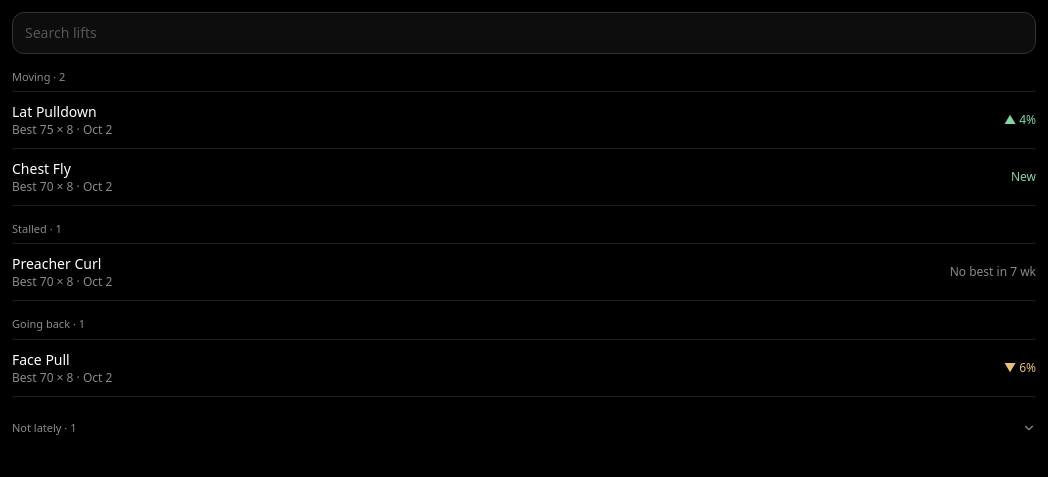
Test case: Stats, a lift's detail › reads a bodyweight-only lift in reps
Click the button "Lat Pulldown Best 75 × 8 · Oct 2 ▲ 4%": (54, 112) x1=12 y1=92 x2=1036 y2=149
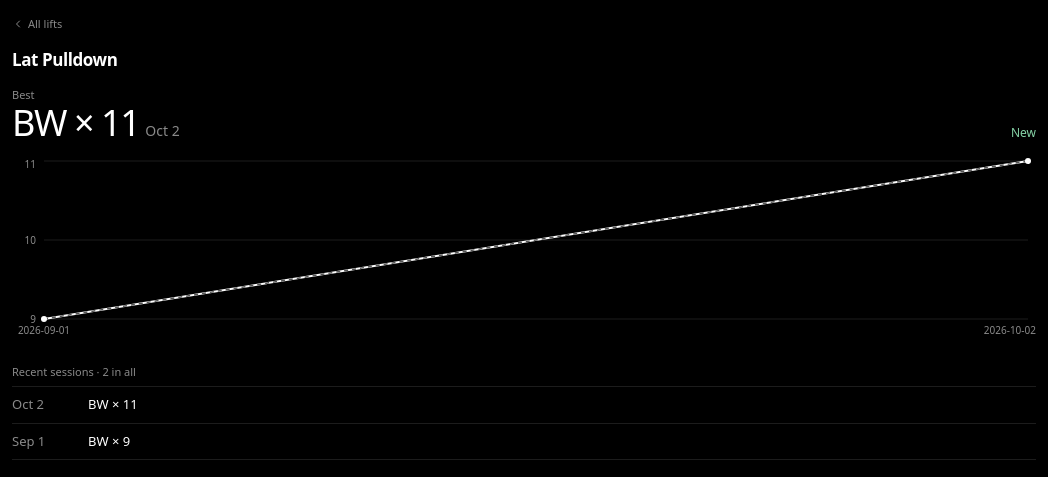
Check: the text "BW × 11" is shown, box x1=12 y1=98 x2=139 y2=147
